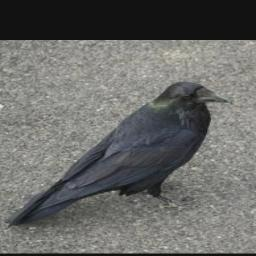Crow: (3, 81, 232, 228)
